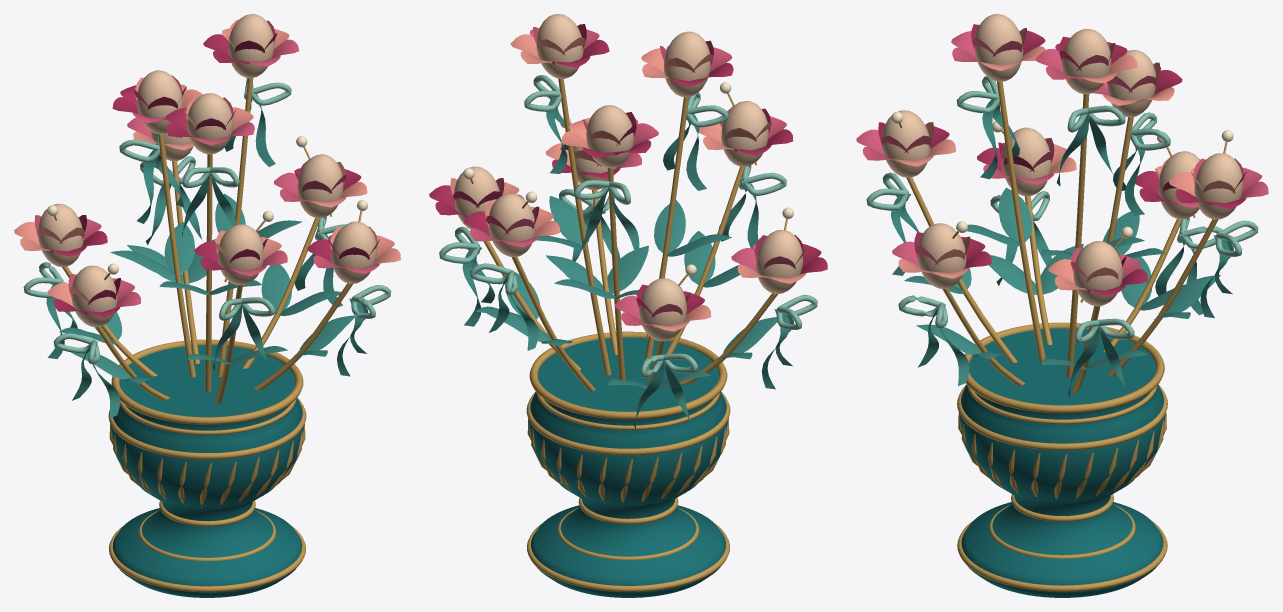
3 renders of one model, left to right at view 1: azimuth 30°, elevation 25°; view 2: azimuth 150°, elevation 25°; view 3: azimuth 270°, elevation 25°, orthographic. The views are drawn at different scales.
Visible parts, largest first — view 1: Vase, Eggs, Silk petals, Ribbon bows, Vase trim, Flower picks, Silk leaves, Sprays; view 2: Vase, Eggs, Silk petals, Ribbon bows, Vase trim, Silk leaves, Flower picks, Sprays; view 3: Vase, Eggs, Silk petals, Ribbon bows, Vase trim, Flower picks, Silk leaves, Sprays.
Boxes of the visible parts, box(x1,y1,x2,y2) form: Vase: box(110, 345, 304, 597); Eggs: box(38, 14, 376, 327); Silk petals: box(14, 19, 400, 317); Ribbon bows: box(23, 78, 391, 418); Vase trim: box(108, 339, 306, 592); Flower picks: box(62, 78, 352, 403); Silk leaves: box(59, 193, 354, 383); Sprays: box(47, 136, 367, 284); Vase: box(528, 337, 728, 597); Eggs: box(454, 14, 802, 341); Silk petals: box(429, 24, 827, 331); Ribbon bows: box(439, 75, 817, 428); Vase trim: box(526, 331, 730, 591); Silk leaves: box(475, 196, 777, 389); Flower picks: box(483, 78, 777, 400); Sprays: box(463, 82, 793, 337); Vase: box(959, 328, 1165, 597); Eggs: box(882, 14, 1242, 306); Silk petals: box(856, 24, 1268, 296); Ribbon bows: box(866, 76, 1258, 396); Vase trim: box(957, 322, 1167, 591); Flower picks: box(906, 81, 1218, 392); Silk leaves: box(904, 187, 1220, 369); Sprays: box(891, 112, 1233, 302).
Size of the model in its own units: 0.3398 by 0.4963 by 0.3323.
